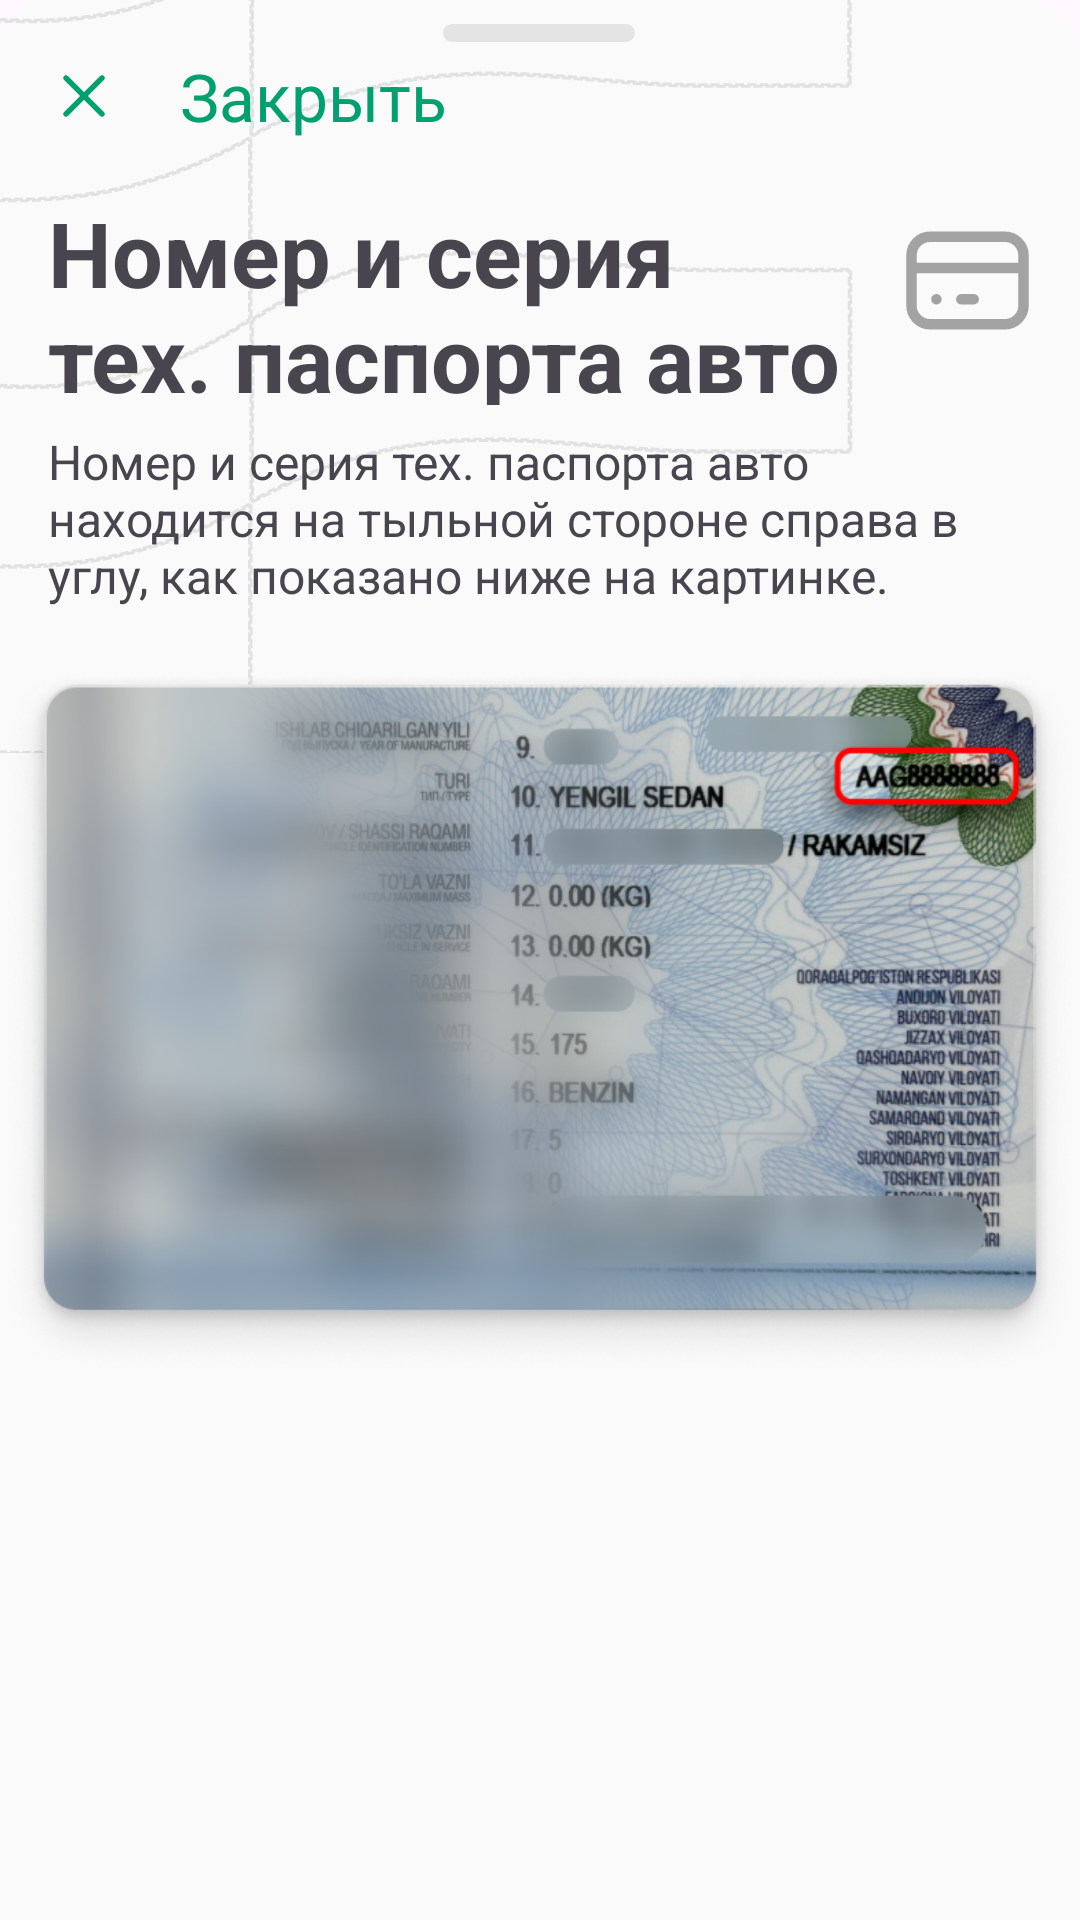

Locate icon controls on the screen. Image size 1080w x 1920h, boxes as (x1, y1, x2, y2).
wallet: (906, 231, 1029, 330)
